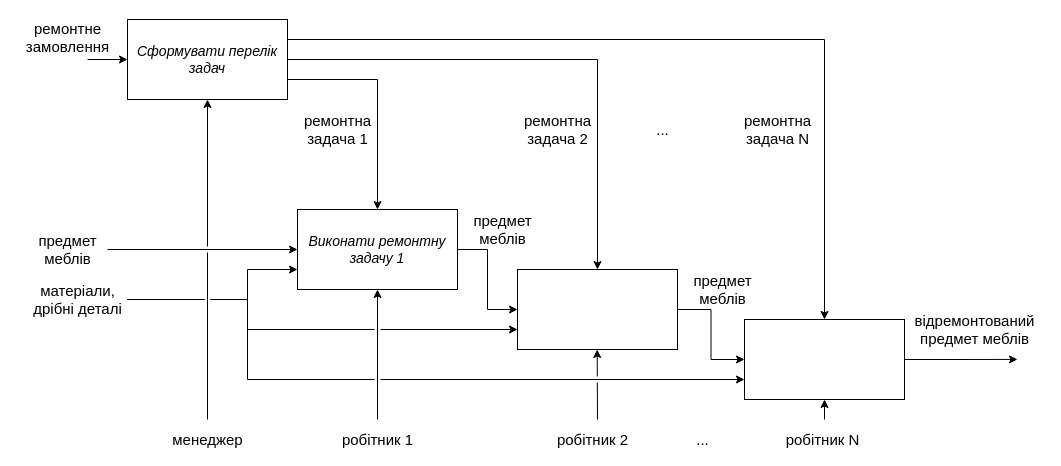
Some shapes in this 1061 by 466 pixel diagram are drawn without their labels. Each missing label, with the centre of its shape:
Виконати ремонтну задачу 2: [597,309]
Виконати ремонтну задачу N: [824,359]
